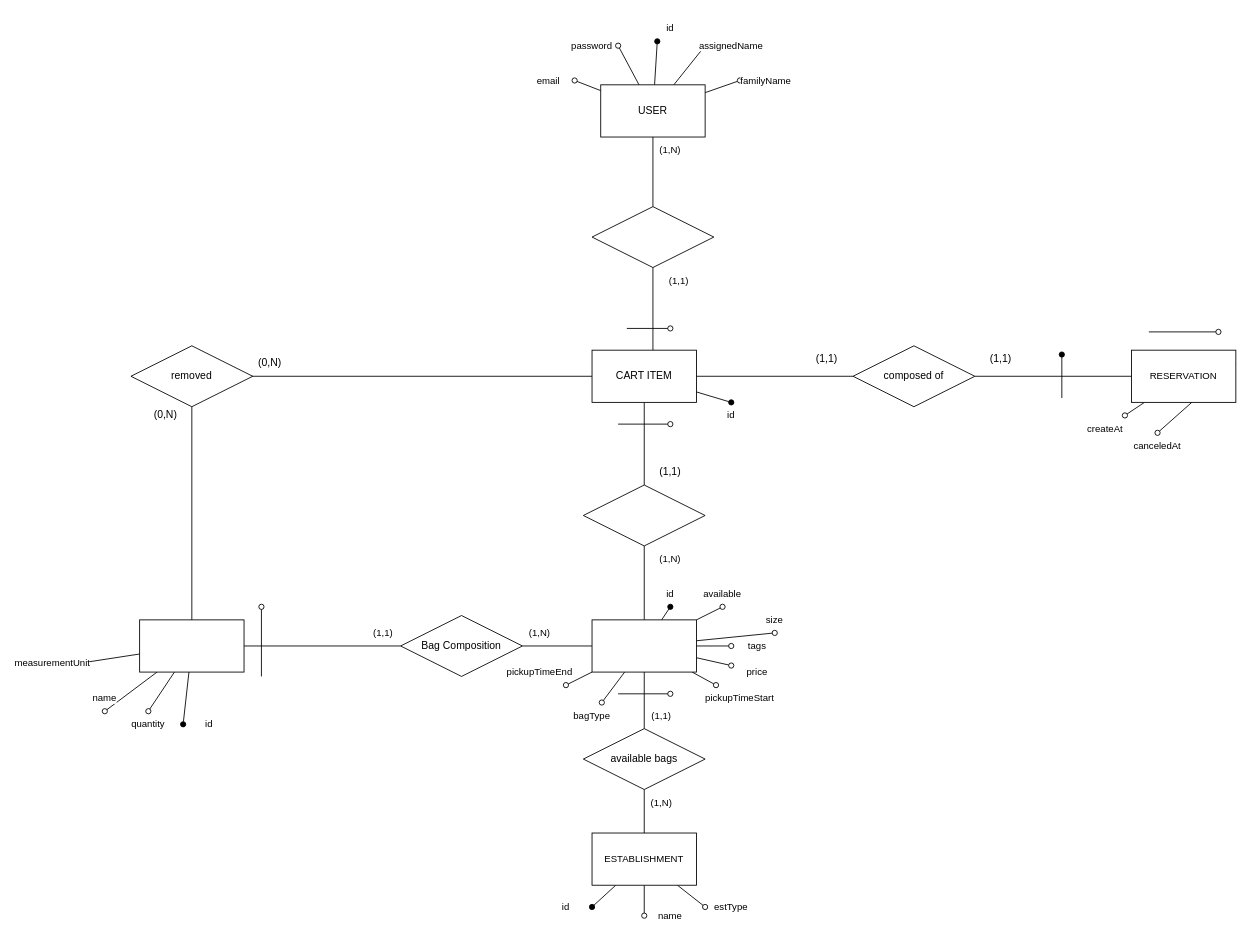
This 1258x943 diagram has some shape labels left out. The box of each missing label's shape, as (x1, y1, x2, y2) in pixels:
BAG: (591, 619, 696, 672)
BAG ITEM: (139, 619, 244, 672)
Cart: (591, 206, 714, 268)
equivalence: (582, 484, 705, 546)
